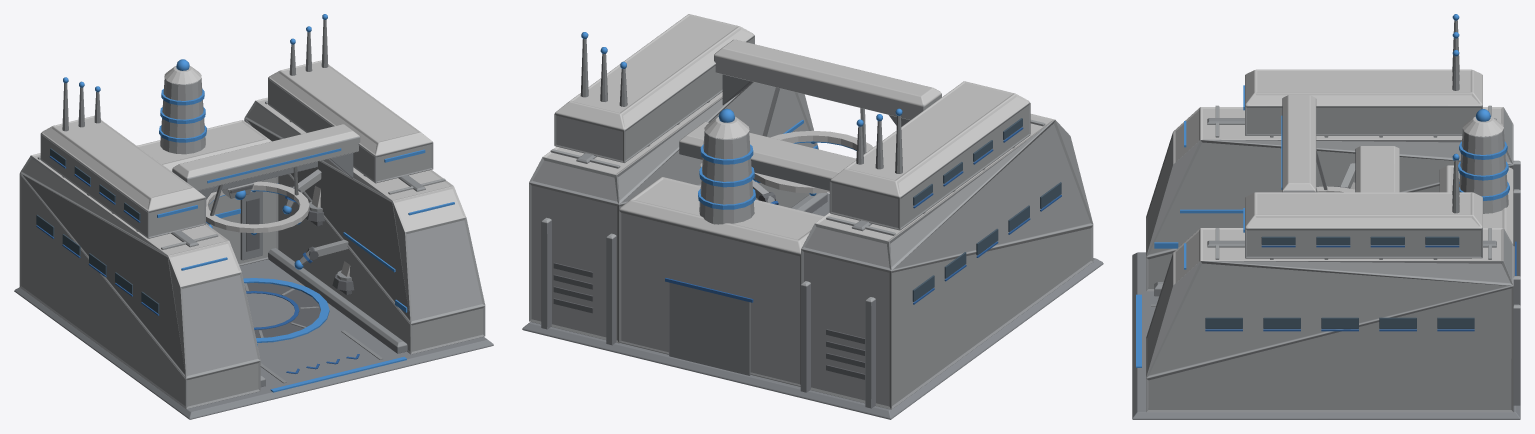
Rendered from lattice_adv_bot_lab.glb.
3 renders of one model, left to right at view 1: azimuth 30°, elevation 25°; view 2: azimuth 150°, elevation 25°; view 3: azimuth 270°, elevation 25°, orthographic. The views are drawn at different scales.
Parts seen in each view (by area): view 1: Body; view 2: Body; view 3: Body.
Boxes of the visible parts, left/top/right/bottom form: Body: left=14, top=14, right=493, bottom=419; Body: left=522, top=14, right=1103, bottom=419; Body: left=1132, top=14, right=1520, bottom=419.
Bounding box in the file's own units: 22.8 × 16.45 × 22.8.
